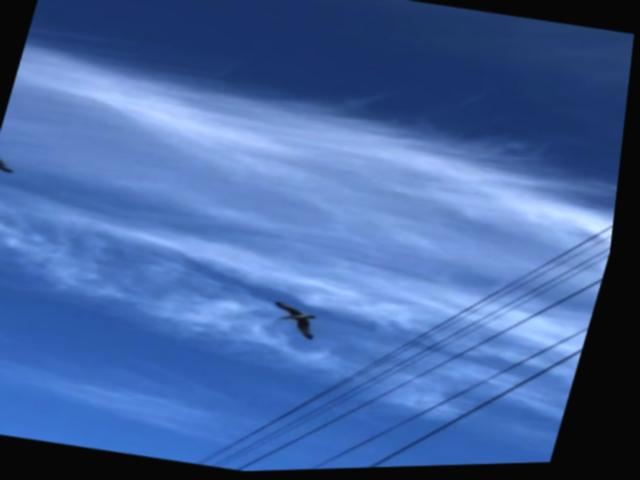bird: (265, 297, 349, 350), (0, 138, 34, 185)
